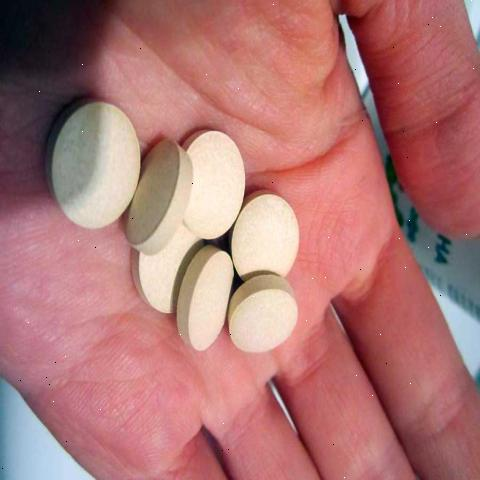Pill: (35, 97, 143, 230), (222, 270, 308, 372), (183, 118, 248, 245), (126, 133, 194, 251), (175, 246, 234, 367)
